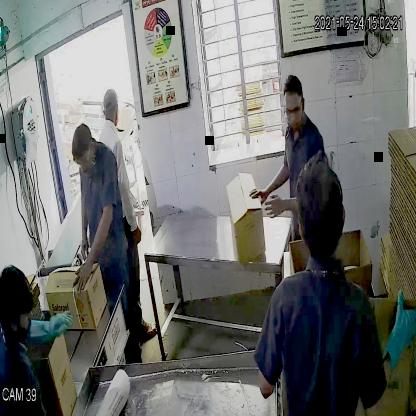goggles: (283, 98, 306, 123), (73, 150, 94, 170)
